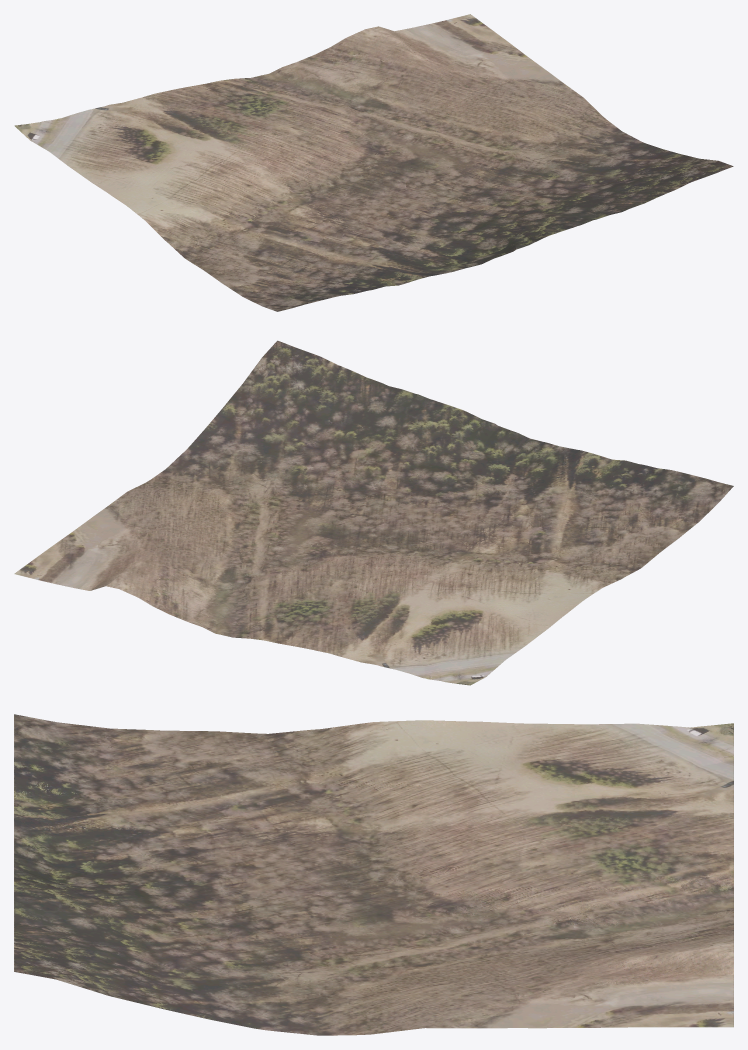
Rendered from CM_Terrain_24492711_6817132.fbx.
The picture shows the model from 3 angles, top to bottom: view 1: azimuth 30°, elevation 25°; view 2: azimuth 150°, elevation 25°; view 3: azimuth 270°, elevation 25°; orthographic projection. The views are drawn at different scales.
Parts seen in each view (by area): view 1: CM_Terrain_24492711_6817132_LOD0; view 2: CM_Terrain_24492711_6817132_LOD0; view 3: CM_Terrain_24492711_6817132_LOD0.
Part boxes in pixels (<box>): CM_Terrain_24492711_6817132_LOD0: <box>14,14,733,311</box>; CM_Terrain_24492711_6817132_LOD0: <box>14,340,733,685</box>; CM_Terrain_24492711_6817132_LOD0: <box>14,714,733,1035</box>.
Size of what is drawn, in the model's own units: 205 by 21.93 by 205.
